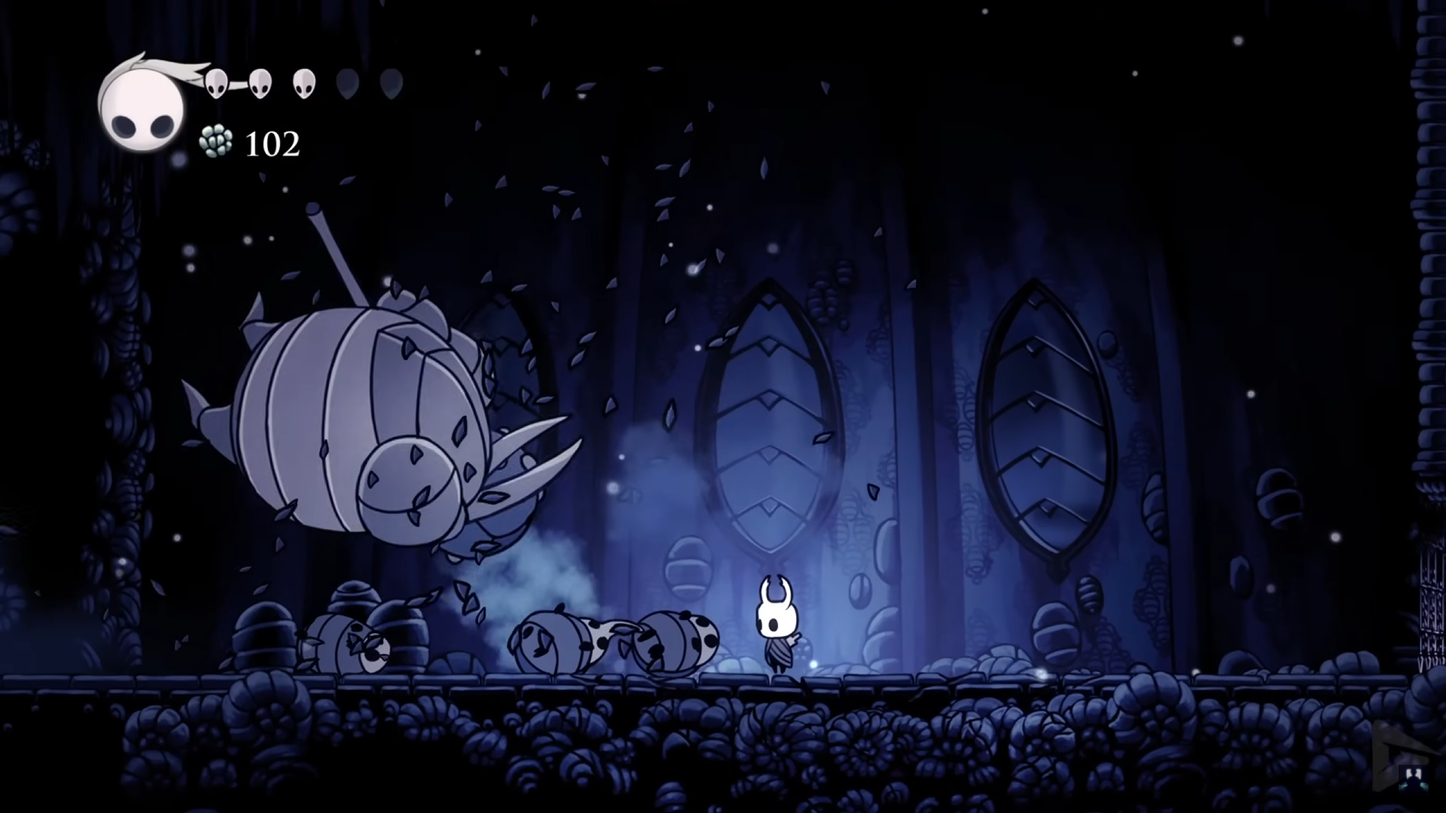HK: (748, 568, 802, 681)
